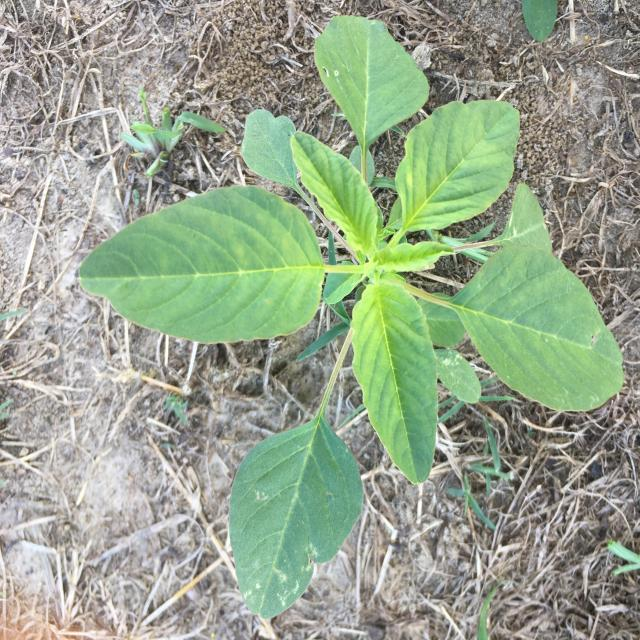PalmerAmaranth: (78, 14, 624, 618)
